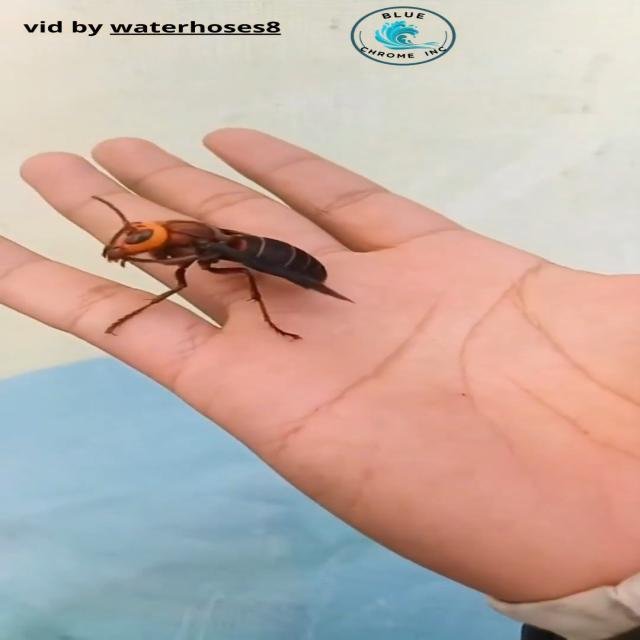Hornets: (90, 195, 356, 344)
